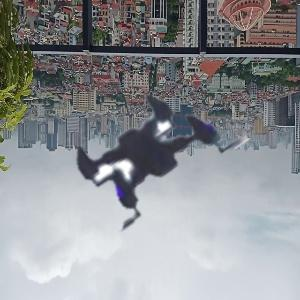drone: (10, 18, 285, 293)
